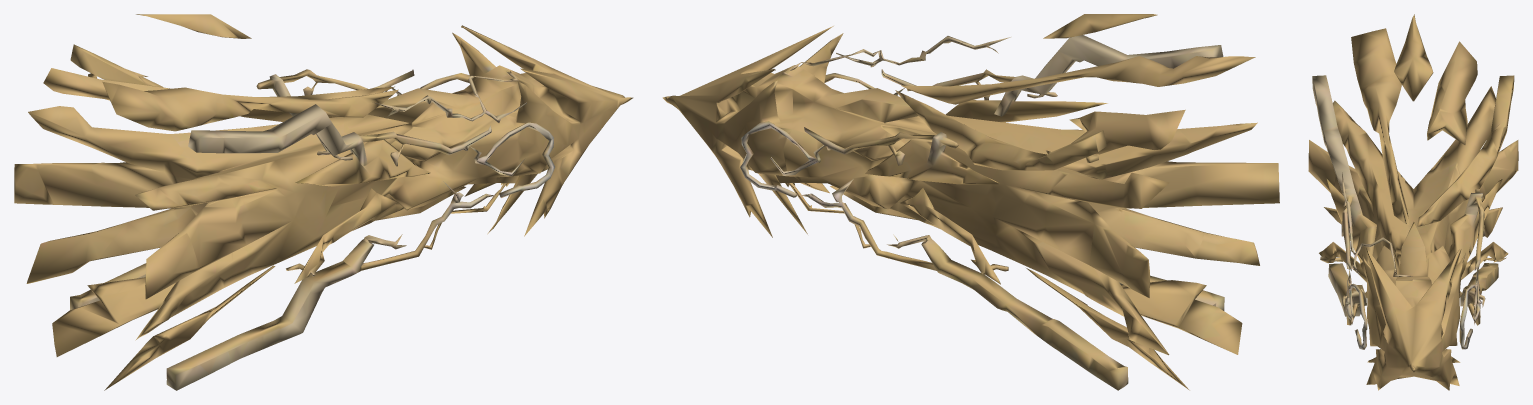
The model's file is thunder_x.glb.
3 views of the same model, side by side, from view 1: azimuth 30°, elevation 25°; view 2: azimuth 150°, elevation 25°; view 3: azimuth 270°, elevation 25° (orthographic). The views are drawn at different scales.
Parts seen in each view (by area): view 1: tripo_node_6c03caef-b78f-4e1f-98a8-039997c7ceab; view 2: tripo_node_6c03caef-b78f-4e1f-98a8-039997c7ceab; view 3: tripo_node_6c03caef-b78f-4e1f-98a8-039997c7ceab.
Part boxes in pixels (x1=…): tripo_node_6c03caef-b78f-4e1f-98a8-039997c7ceab: x1=14, y1=14, x2=633, y2=390; tripo_node_6c03caef-b78f-4e1f-98a8-039997c7ceab: x1=662, y1=14, x2=1279, y2=390; tripo_node_6c03caef-b78f-4e1f-98a8-039997c7ceab: x1=1308, y1=14, x2=1518, y2=390.
Size of the model in its own units: 0.9805 by 0.5824 by 0.3999.
Materials: 1 (1 with a texture image).
